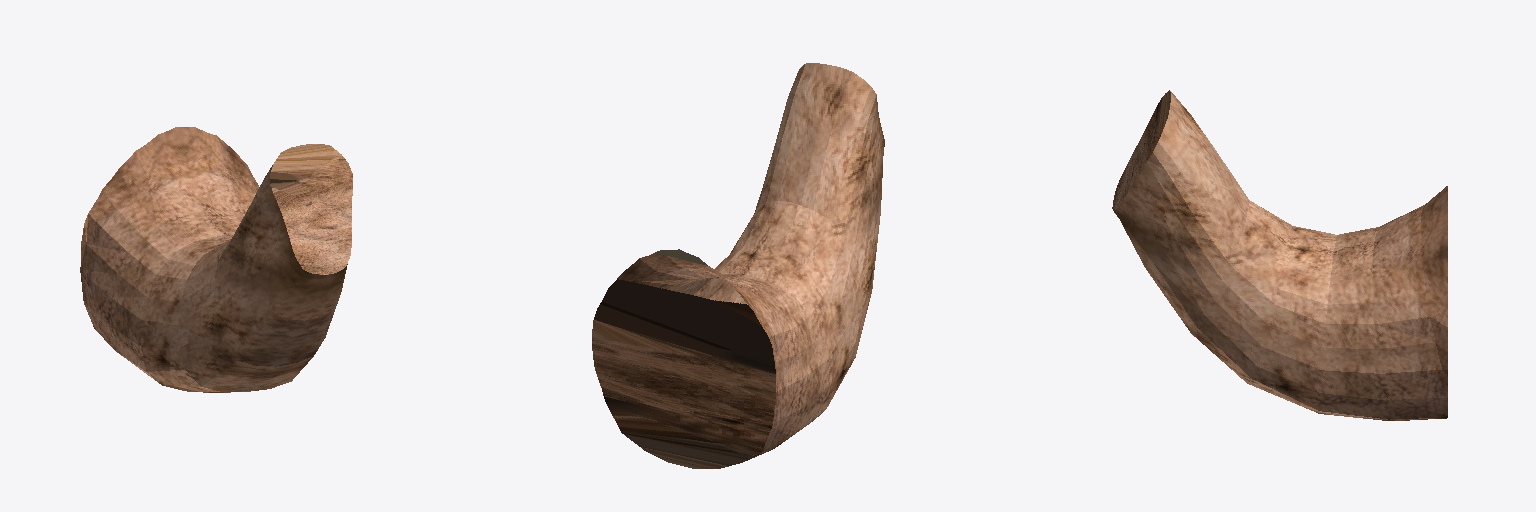
3 renders of one model, left to right at view 1: azimuth 30°, elevation 25°; view 2: azimuth 150°, elevation 25°; view 3: azimuth 270°, elevation 25°, orthographic.
Parts seen in each view (by area): view 1: Cuello; view 2: Cuello; view 3: Cuello.
Boxes of the visible parts, box(x1,y1,x2,y2) form: Cuello: box(80, 127, 352, 392); Cuello: box(592, 63, 884, 468); Cuello: box(1112, 90, 1447, 420).
Bounding box in the file's own units: 0.4288 × 0.6816 × 0.6759.
1 materials, 1 textured.